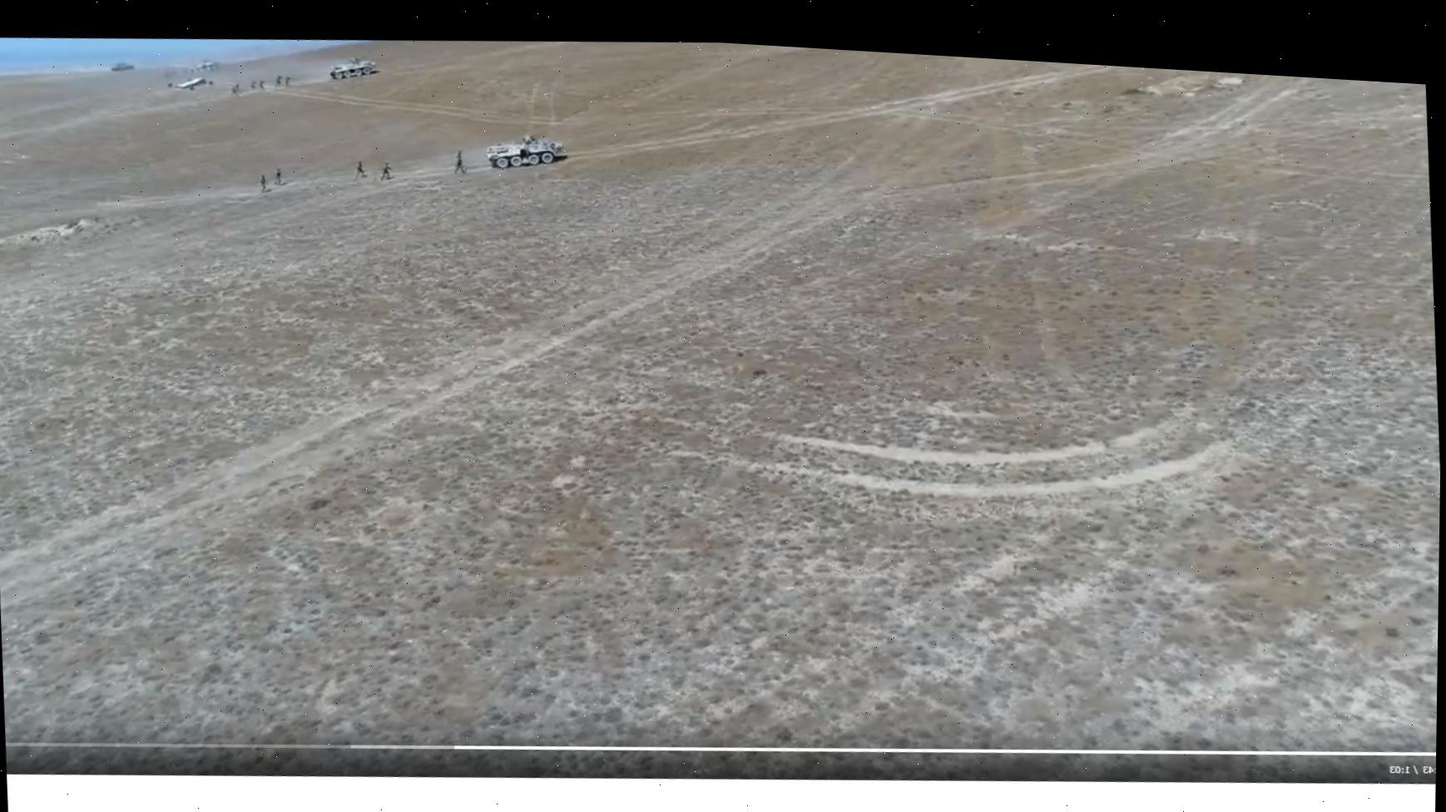armored_car: (480, 123, 573, 178), (325, 46, 383, 91)
